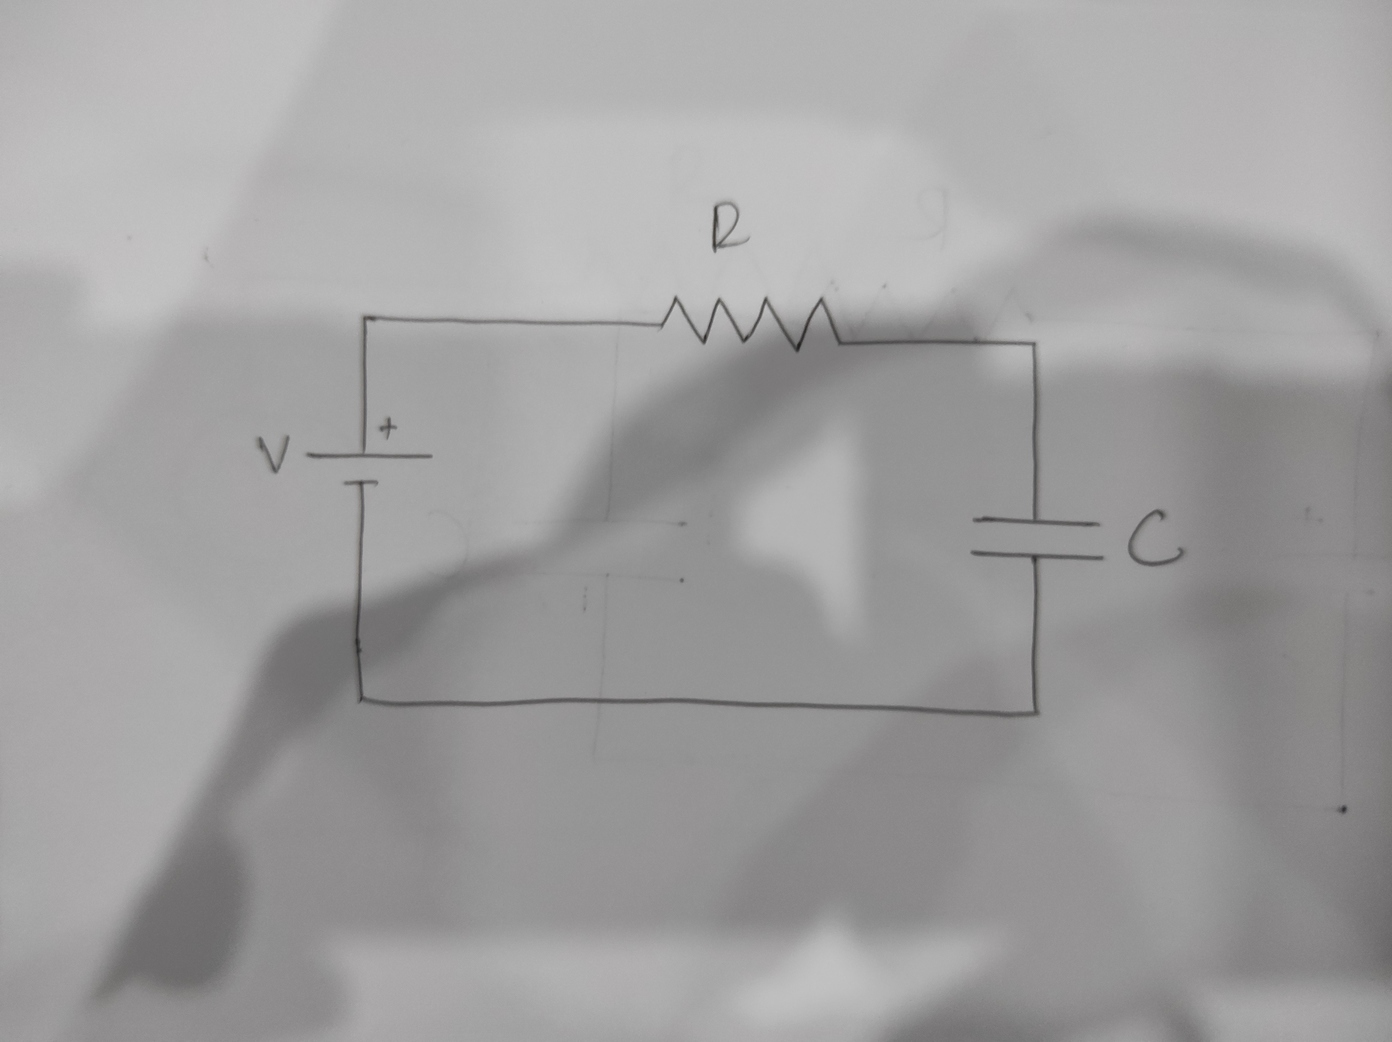capacitor.unpolarized: (965, 507, 1110, 570)
junction: (353, 308, 379, 329), (1024, 702, 1046, 723), (350, 688, 372, 710), (1022, 332, 1044, 354)
resistor: (654, 292, 842, 357)
text: (1126, 508, 1188, 567), (707, 194, 753, 255), (254, 430, 292, 477)
voltage.dc: (300, 413, 436, 490)
